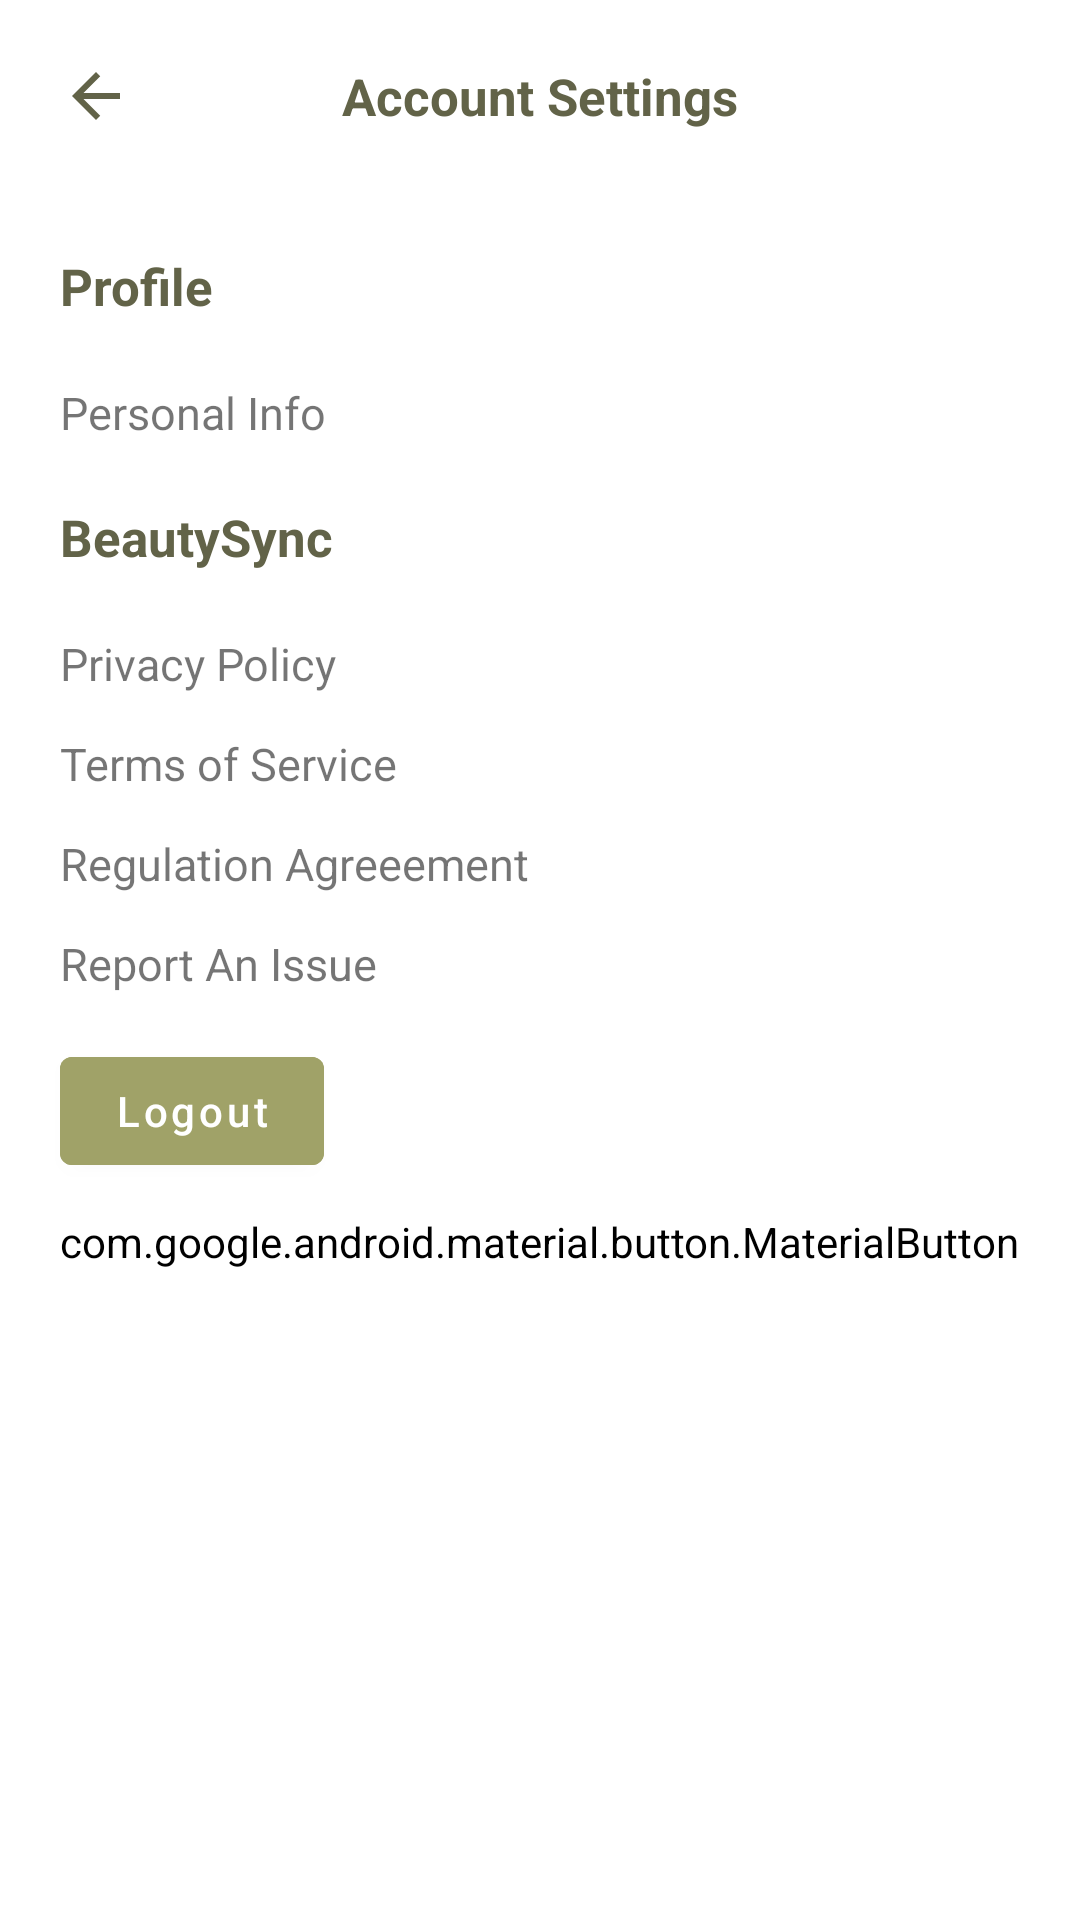

Screen size 1080*1920. Icon name, then its box in pixels as (x1, y1, x2, y2):
Back Arrow: (72, 72, 120, 120)
